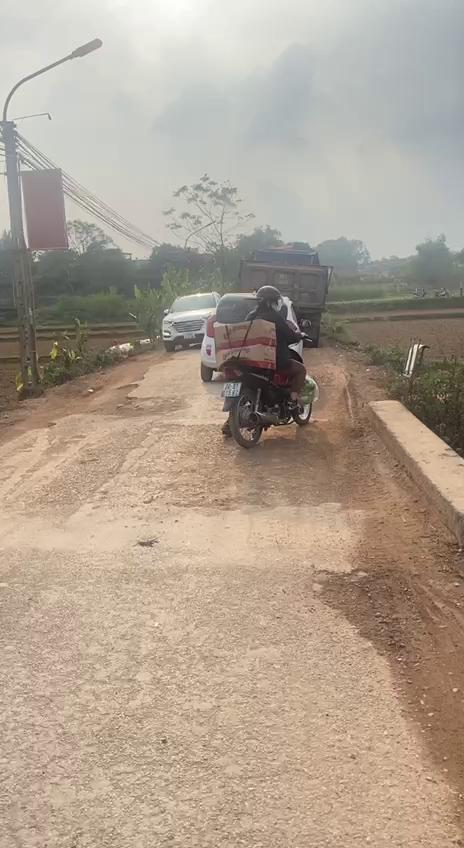pothole: (310, 550, 412, 660), (74, 383, 191, 421)
